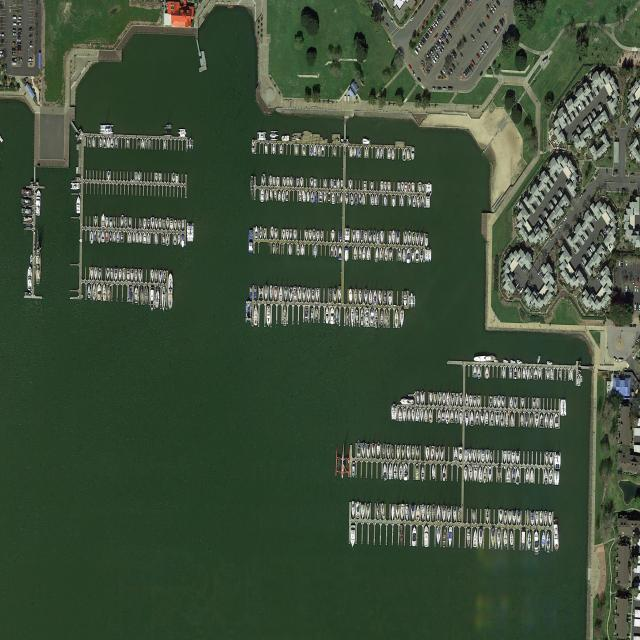ship: (335, 441, 351, 480), (35, 228, 42, 287), (553, 519, 559, 552), (473, 355, 497, 363), (168, 273, 173, 310), (35, 190, 41, 216), (245, 301, 252, 323), (27, 266, 33, 291), (350, 525, 356, 549), (99, 125, 114, 134), (187, 223, 194, 242), (253, 304, 259, 326), (161, 125, 172, 137), (399, 524, 405, 545), (534, 530, 539, 555), (248, 229, 253, 253), (411, 526, 417, 546), (283, 304, 288, 327), (424, 525, 429, 548), (555, 452, 561, 470), (266, 306, 271, 327), (162, 287, 166, 313), (425, 246, 431, 263), (369, 307, 374, 327), (250, 175, 254, 200), (150, 287, 154, 312), (466, 528, 471, 548), (496, 529, 501, 549), (400, 398, 414, 405), (409, 293, 415, 309), (391, 405, 397, 421), (554, 470, 560, 486), (394, 309, 399, 328), (155, 289, 160, 308), (436, 526, 441, 545), (503, 529, 508, 548), (491, 529, 496, 548), (76, 196, 81, 214), (436, 505, 441, 523), (473, 529, 478, 547), (443, 526, 447, 548), (546, 531, 550, 553), (187, 137, 193, 151), (448, 526, 452, 547), (270, 131, 279, 140), (365, 307, 369, 327), (385, 309, 389, 329), (177, 129, 187, 137), (128, 286, 133, 302), (561, 400, 566, 416), (479, 529, 483, 549), (527, 530, 531, 550), (355, 309, 359, 328), (360, 307, 364, 326), (400, 309, 404, 328), (521, 531, 525, 550), (325, 306, 329, 324), (426, 183, 432, 195), (145, 286, 149, 304), (465, 410, 469, 428), (404, 463, 408, 481), (383, 463, 387, 481), (351, 501, 355, 519), (356, 500, 360, 518), (516, 467, 520, 485), (416, 504, 420, 522), (257, 132, 266, 140), (442, 505, 446, 523), (510, 530, 514, 548), (70, 183, 80, 190), (354, 288, 358, 305), (330, 307, 334, 324), (92, 283, 96, 300), (102, 284, 106, 301), (97, 283, 101, 300), (107, 284, 111, 301), (488, 466, 492, 483), (483, 466, 487, 483), (478, 466, 482, 483), (442, 464, 446, 481), (399, 463, 403, 480), (393, 463, 397, 480), (388, 463, 392, 480), (391, 504, 395, 521), (357, 441, 361, 458), (405, 504, 409, 521), (426, 505, 430, 522), (541, 531, 545, 548), (345, 228, 350, 241), (279, 286, 283, 302), (269, 285, 273, 301), (264, 285, 268, 301), (304, 307, 308, 323), (345, 309, 349, 325), (383, 289, 387, 305), (315, 307, 319, 323), (380, 310, 384, 326), (134, 287, 138, 303), (470, 410, 474, 426), (497, 467, 501, 483), (549, 468, 553, 484), (544, 469, 548, 485), (525, 412, 529, 428), (549, 413, 553, 429), (555, 413, 559, 429), (505, 411, 509, 427), (500, 411, 504, 427), (352, 462, 356, 478), (401, 444, 405, 460), (377, 441, 381, 457), (411, 505, 415, 521), (421, 504, 425, 520), (351, 307, 354, 328), (21, 198, 30, 205), (402, 247, 406, 262), (302, 287, 306, 302), (307, 287, 311, 302), (293, 287, 297, 302), (289, 287, 293, 302), (284, 287, 288, 302), (274, 286, 278, 301), (415, 248, 419, 263), (398, 407, 402, 422), (373, 290, 377, 305), (403, 291, 407, 306), (388, 291, 392, 306), (364, 289, 368, 304), (349, 289, 353, 304), (21, 208, 31, 214), (21, 189, 31, 195), (101, 213, 105, 228), (464, 467, 468, 482), (507, 468, 511, 483), (396, 504, 400, 519), (361, 504, 365, 519), (535, 413, 539, 428), (530, 413, 534, 428), (540, 413, 544, 428), (544, 413, 548, 428), (362, 443, 366, 458), (454, 447, 458, 462), (435, 446, 439, 461), (411, 445, 415, 460), (396, 445, 400, 460), (251, 140, 255, 155), (472, 509, 476, 524), (453, 507, 457, 522), (447, 508, 451, 523), (540, 511, 544, 526), (421, 463, 424, 482), (432, 503, 435, 522), (344, 248, 348, 262), (353, 246, 357, 260), (362, 246, 366, 260), (329, 288, 333, 302), (411, 248, 415, 262), (388, 231, 392, 245), (352, 229, 356, 243), (450, 409, 454, 423), (378, 291, 382, 305), (477, 365, 481, 379), (87, 284, 91, 298), (545, 452, 549, 466), (530, 469, 534, 483), (520, 412, 524, 426), (510, 413, 514, 427), (468, 448, 472, 462), (387, 444, 391, 458), (411, 147, 415, 161), (282, 135, 290, 142), (499, 509, 503, 523), (517, 512, 521, 526), (313, 245, 317, 258), (375, 247, 379, 260), (311, 289, 315, 302), (312, 229, 316, 242), (270, 226, 274, 239), (368, 230, 372, 243), (360, 230, 364, 243), (356, 230, 360, 243), (442, 393, 446, 406), (454, 410, 458, 423), (437, 409, 441, 422), (428, 410, 432, 423), (497, 395, 501, 408), (546, 368, 550, 381), (473, 365, 477, 378), (126, 268, 130, 281), (122, 268, 126, 281), (110, 268, 114, 281), (90, 267, 94, 280), (481, 450, 485, 463), (477, 450, 481, 463), (485, 411, 489, 424), (464, 450, 468, 463), (508, 511, 512, 524), (336, 307, 339, 324), (140, 288, 143, 305), (416, 463, 419, 480), (401, 504, 404, 521), (302, 131, 312, 136), (291, 137, 301, 142), (301, 138, 311, 143), (311, 134, 321, 139), (395, 141, 405, 146), (358, 247, 362, 259), (338, 286, 341, 302), (407, 248, 410, 264), (274, 228, 278, 240), (316, 230, 320, 242), (408, 230, 411, 246), (376, 232, 380, 244), (438, 393, 442, 405), (473, 395, 477, 407), (477, 395, 481, 407), (501, 395, 505, 407), (383, 194, 387, 206), (116, 231, 120, 243), (101, 230, 105, 242), (354, 193, 358, 205), (345, 193, 349, 205), (319, 191, 323, 203), (306, 191, 310, 203), (130, 269, 134, 281), (114, 269, 118, 281), (469, 466, 472, 482), (381, 503, 384, 519), (376, 503, 379, 519), (512, 467, 515, 483), (491, 411, 494, 427), (459, 446, 462, 462), (367, 443, 370, 459), (382, 443, 385, 459), (363, 139, 371, 145), (486, 508, 489, 524), (526, 510, 529, 526), (276, 243, 279, 258), (380, 246, 383, 261), (385, 246, 388, 261), (398, 246, 401, 261), (249, 285, 252, 300), (254, 286, 257, 301), (255, 225, 258, 240), (392, 230, 395, 245), (412, 231, 415, 246), (404, 230, 407, 245), (447, 391, 450, 406), (536, 355, 541, 364), (420, 408, 423, 423), (446, 409, 449, 424), (403, 408, 406, 423), (23, 217, 32, 222), (292, 132, 301, 137), (311, 138, 320, 143), (474, 467, 477, 482), (432, 464, 435, 479), (366, 504, 369, 519), (526, 468, 529, 483), (496, 411, 499, 426), (416, 446, 419, 461), (431, 446, 434, 461), (372, 443, 375, 458), (504, 510, 507, 525), (549, 511, 552, 526), (544, 511, 547, 526), (536, 511, 539, 526), (531, 510, 534, 525), (334, 246, 338, 257), (282, 229, 286, 240), (426, 197, 430, 208), (489, 396, 493, 407), (530, 368, 534, 379), (327, 191, 331, 202), (298, 190, 302, 201), (302, 145, 306, 156), (339, 246, 342, 260), (367, 246, 370, 260), (389, 247, 392, 261), (334, 288, 337, 302), (316, 288, 319, 302), (298, 287, 301, 301), (420, 249, 423, 263), (396, 231, 399, 245), (381, 231, 384, 245), (311, 308, 314, 322), (465, 393, 468, 407), (460, 392, 463, 406), (421, 391, 424, 405), (417, 391, 420, 405), (460, 412, 463, 426), (442, 408, 445, 422), (412, 409, 415, 423), (369, 290, 372, 304), (359, 290, 362, 304), (526, 367, 529, 381), (375, 309, 378, 323), (90, 230, 93, 244), (181, 234, 184, 248), (261, 188, 264, 202), (159, 270, 162, 284), (139, 269, 142, 283), (94, 267, 97, 281), (476, 410, 479, 424), (481, 410, 484, 424), (516, 450, 519, 464), (440, 447, 443, 461), (426, 447, 429, 461), (407, 446, 410, 460), (391, 445, 394, 459), (458, 507, 461, 521), (513, 511, 516, 525), (259, 288, 263, 298), (24, 292, 32, 297), (109, 218, 113, 228), (320, 139, 328, 144), (332, 134, 340, 139), (297, 243, 300, 256), (259, 226, 262, 239), (417, 196, 420, 209), (425, 234, 428, 247), (420, 233, 423, 246), (416, 232, 419, 245), (364, 231, 367, 244), (455, 393, 458, 406), (451, 393, 454, 406), (434, 392, 437, 405), (430, 392, 433, 405), (425, 409, 428, 422), (416, 408, 419, 421), (510, 396, 513, 409), (502, 366, 505, 379), (486, 366, 489, 379), (166, 217, 169, 230), (151, 217, 154, 230), (265, 189, 268, 202), (282, 189, 285, 202), (315, 192, 318, 205), (155, 269, 158, 282), (151, 269, 154, 282), (135, 269, 138, 282), (118, 268, 121, 281), (106, 267, 109, 280), (98, 268, 101, 281), (262, 173, 265, 186), (550, 452, 553, 465), (486, 450, 489, 463), (533, 397, 536, 410), (473, 450, 476, 463), (403, 148, 406, 161), (289, 243, 292, 255), (309, 229, 312, 241), (332, 230, 335, 242), (263, 228, 266, 240), (421, 196, 424, 208), (413, 195, 416, 207), (339, 231, 342, 243), (373, 231, 376, 243), (469, 395, 472, 407), (407, 409, 410, 421), (514, 396, 517, 408), (569, 369, 572, 381), (550, 368, 553, 380), (538, 367, 541, 379), (534, 368, 537, 380), (522, 367, 525, 379), (514, 367, 517, 379), (510, 367, 513, 379), (400, 195, 403, 207), (392, 196, 395, 208), (375, 194, 378, 206), (143, 232, 146, 244), (147, 232, 150, 244), (115, 137, 118, 149), (155, 233, 158, 245), (88, 136, 91, 148), (166, 234, 169, 246), (162, 232, 165, 244), (30, 253, 33, 265), (121, 215, 124, 227), (362, 193, 365, 205), (336, 192, 339, 204), (163, 271, 166, 283), (512, 452, 515, 464), (507, 451, 510, 463), (365, 147, 368, 159), (357, 146, 360, 158), (350, 146, 353, 158), (318, 145, 321, 157), (392, 148, 395, 160), (295, 144, 298, 156), (388, 148, 391, 160), (407, 149, 410, 161), (503, 359, 510, 364), (547, 361, 554, 366), (301, 244, 304, 255), (305, 230, 308, 241), (286, 229, 289, 240), (320, 230, 323, 241), (577, 375, 580, 386), (493, 396, 496, 407), (128, 232, 131, 243), (120, 232, 123, 243), (94, 230, 97, 241), (174, 219, 177, 230), (170, 219, 173, 230), (159, 218, 162, 229), (139, 232, 142, 243), (103, 137, 106, 148), (111, 137, 114, 148), (107, 137, 110, 148), (92, 137, 95, 148), (174, 234, 177, 245), (155, 218, 158, 229), (140, 218, 143, 229), (117, 217, 120, 228), (113, 217, 116, 228), (105, 217, 108, 228), (94, 216, 97, 227), (138, 170, 141, 181), (418, 182, 421, 193), (412, 182, 415, 193), (408, 182, 411, 193), (332, 193, 335, 204), (371, 194, 374, 205), (359, 193, 362, 204), (350, 194, 353, 205), (323, 192, 326, 203), (311, 192, 314, 203), (303, 191, 306, 202), (290, 177, 293, 188), (503, 451, 506, 462), (333, 146, 336, 157), (314, 145, 317, 156), (310, 145, 313, 156), (272, 143, 275, 154), (294, 230, 297, 240), (510, 359, 516, 364), (517, 359, 523, 364), (518, 369, 521, 379), (136, 233, 139, 243), (178, 220, 181, 230), (145, 139, 148, 149), (141, 139, 144, 149), (126, 138, 129, 148), (177, 235, 180, 245), (107, 171, 110, 181), (401, 182, 404, 192), (422, 184, 425, 194), (349, 180, 352, 190), (278, 191, 281, 201), (286, 191, 289, 201), (324, 178, 327, 188), (269, 176, 272, 186), (300, 177, 303, 187), (283, 177, 286, 187), (301, 136, 311, 139), (521, 398, 524, 408), (354, 147, 357, 157), (280, 144, 283, 154), (332, 139, 339, 143), (558, 369, 561, 378), (109, 232, 112, 241), (99, 138, 102, 147), (147, 219, 150, 228), (155, 173, 158, 182), (164, 140, 167, 149), (398, 183, 401, 192), (388, 182, 391, 191), (363, 181, 366, 190), (340, 194, 343, 203), (273, 177, 276, 186), (106, 230, 108, 243), (537, 397, 539, 410), (331, 245, 333, 257), (98, 231, 100, 243), (144, 218, 146, 230), (125, 217, 127, 229), (75, 177, 81, 181), (277, 176, 279, 188), (580, 375, 583, 383), (322, 145, 324, 157), (381, 147, 383, 159), (377, 147, 379, 159), (273, 244, 275, 255), (290, 229, 292, 240), (409, 196, 411, 207), (133, 232, 135, 243), (113, 231, 115, 242), (173, 172, 175, 183), (405, 182, 407, 193), (274, 189, 276, 200), (337, 178, 339, 189), (270, 189, 272, 200), (491, 451, 493, 462), (265, 143, 267, 154), (374, 322, 377, 329), (182, 220, 184, 230), (163, 219, 165, 229), (381, 181, 383, 191), (331, 179, 333, 189), (334, 179, 336, 189), (311, 177, 313, 187), (287, 177, 289, 187), (149, 140, 151, 149), (138, 139, 140, 148), (129, 217, 131, 226), (176, 174, 178, 183), (159, 173, 161, 182), (135, 172, 137, 181), (384, 182, 386, 191), (314, 179, 316, 188), (297, 178, 299, 187), (371, 182, 373, 190), (341, 180, 343, 188)
small-vehicle: (499, 18, 504, 27), (433, 33, 439, 40), (471, 60, 476, 68), (481, 45, 486, 53), (484, 41, 489, 49), (494, 26, 499, 34), (470, 34, 475, 42), (425, 66, 430, 74), (430, 49, 435, 57), (431, 46, 436, 54), (589, 247, 594, 255), (578, 104, 582, 113), (459, 52, 464, 59), (492, 4, 497, 11), (411, 70, 416, 77), (446, 25, 451, 32), (444, 28, 449, 35), (440, 35, 445, 42), (435, 52, 440, 59), (433, 54, 438, 61), (468, 2, 473, 9), (420, 39, 425, 46), (448, 68, 453, 75), (451, 63, 456, 70), (425, 32, 430, 39), (445, 37, 450, 44), (417, 4, 422, 11), (456, 45, 461, 52), (441, 9, 446, 16), (416, 44, 421, 51), (435, 18, 440, 25), (409, 15, 414, 22), (485, 3, 490, 10), (426, 54, 431, 61), (428, 51, 433, 58), (379, 1, 384, 8), (586, 96, 591, 103), (582, 188, 587, 195), (451, 53, 456, 60), (501, 17, 506, 24), (563, 215, 568, 222), (550, 247, 555, 254), (540, 273, 545, 280), (537, 269, 542, 276), (519, 288, 524, 295), (463, 71, 467, 79), (442, 32, 446, 40), (441, 41, 445, 49), (432, 57, 436, 65), (453, 50, 457, 58), (398, 48, 402, 56), (479, 22, 483, 30), (438, 48, 443, 54), (413, 11, 418, 17), (383, 8, 388, 14), (423, 35, 428, 41), (418, 42, 423, 48), (612, 356, 617, 362), (532, 204, 537, 210), (456, 12, 461, 18), (581, 236, 586, 242), (515, 282, 520, 288), (521, 265, 526, 271), (466, 67, 470, 74), (470, 62, 474, 69), (476, 53, 480, 60), (493, 29, 497, 36), (477, 28, 481, 35), (448, 33, 452, 40), (443, 30, 447, 37), (429, 62, 433, 69), (434, 45, 438, 52), (435, 42, 439, 49), (440, 45, 444, 52), (491, 7, 495, 14), (486, 13, 490, 20), (447, 70, 451, 77), (439, 13, 443, 20), (458, 43, 462, 50), (430, 25, 434, 32), (460, 41, 464, 48), (437, 15, 441, 22), (434, 21, 438, 28), (432, 23, 436, 30), (428, 27, 432, 34), (427, 30, 431, 37), (414, 49, 418, 56), (437, 40, 441, 47), (482, 21, 486, 28), (489, 9, 493, 16), (631, 344, 635, 351), (390, 17, 394, 24), (589, 288, 593, 295), (537, 221, 541, 228), (450, 20, 454, 27), (460, 7, 464, 14), (455, 14, 459, 21), (453, 16, 457, 23), (550, 234, 554, 241), (598, 276, 602, 283), (603, 230, 607, 237), (586, 253, 590, 260), (593, 242, 597, 249), (614, 323, 619, 328), (442, 68, 446, 74), (480, 49, 484, 55), (496, 25, 500, 31), (427, 65, 431, 71), (408, 64, 412, 70), (463, 37, 467, 43), (440, 70, 444, 76), (417, 77, 421, 83), (422, 37, 426, 43), (468, 65, 472, 71), (634, 341, 638, 347), (634, 260, 637, 268), (452, 19, 456, 25), (538, 196, 542, 202), (591, 92, 595, 98), (582, 101, 586, 107), (559, 223, 563, 229), (555, 242, 559, 248), (596, 274, 600, 280), (580, 260, 584, 266), (587, 286, 591, 292), (579, 194, 583, 200), (517, 286, 521, 292), (577, 244, 581, 250), (480, 70, 483, 77), (465, 69, 468, 76), (627, 286, 630, 293), (632, 278, 635, 285), (625, 277, 628, 284), (579, 126, 582, 133), (594, 216, 597, 223), (29, 34, 34, 38), (448, 87, 453, 91), (630, 173, 635, 177), (17, 32, 22, 36), (621, 259, 623, 268), (386, 23, 389, 29), (632, 610, 635, 616), (633, 324, 637, 328), (629, 324, 633, 328), (634, 303, 636, 311), (12, 48, 16, 52), (29, 58, 33, 62), (437, 87, 442, 90), (618, 359, 623, 362), (29, 28, 34, 31), (17, 45, 22, 48), (17, 29, 22, 32), (17, 23, 22, 26), (12, 29, 17, 32), (29, 45, 34, 48), (17, 20, 22, 23), (12, 16, 17, 19), (0, 34, 5, 37), (637, 303, 639, 310), (623, 285, 625, 292), (637, 278, 639, 285), (637, 286, 639, 293), (625, 260, 627, 267), (606, 168, 608, 175), (5, 65, 7, 72), (432, 87, 436, 90), (30, 41, 34, 44), (625, 286, 627, 292), (619, 260, 621, 266), (12, 42, 16, 45), (17, 42, 21, 45), (17, 36, 21, 39), (12, 23, 16, 26), (17, 39, 21, 42), (633, 595, 635, 600), (17, 49, 22, 51), (443, 88, 447, 90), (13, 33, 17, 35), (635, 285, 636, 292)
